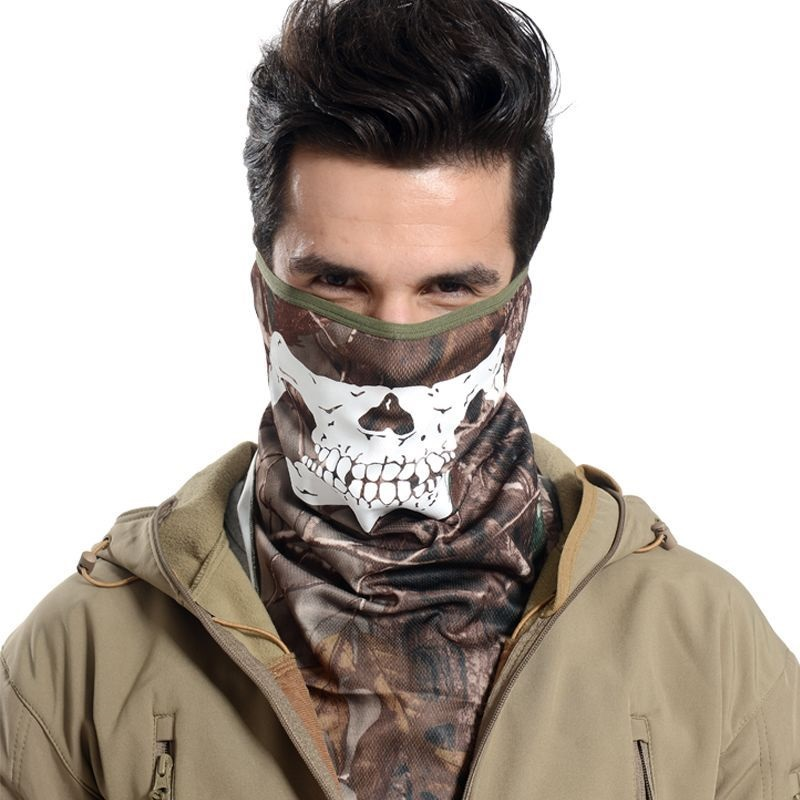face_mask: (267, 131, 527, 480)
